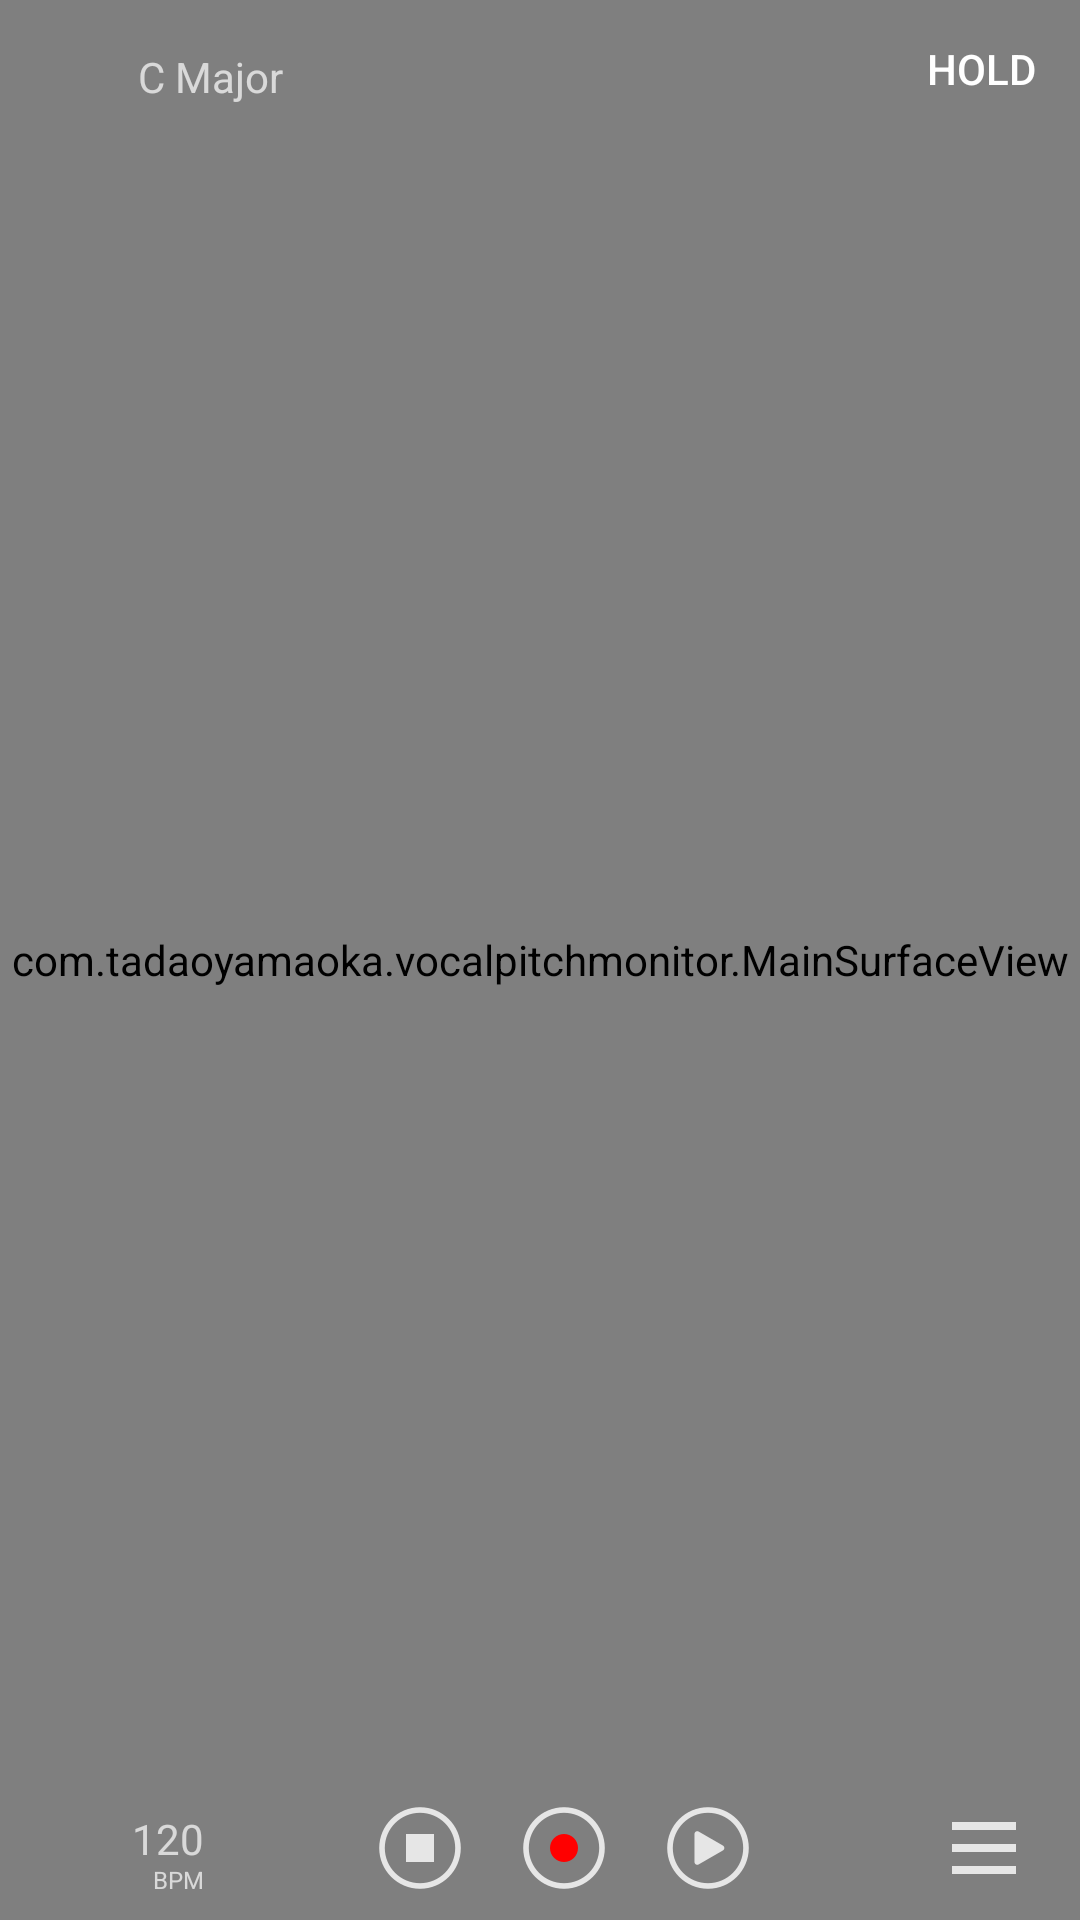

Point at icon controls on the screen. Image size 1080×1920, points as [x,y].
menu: [984,1848]
playstate: [708,1848]
recordstate: [564,1848]
stopstate: [420,1848]
